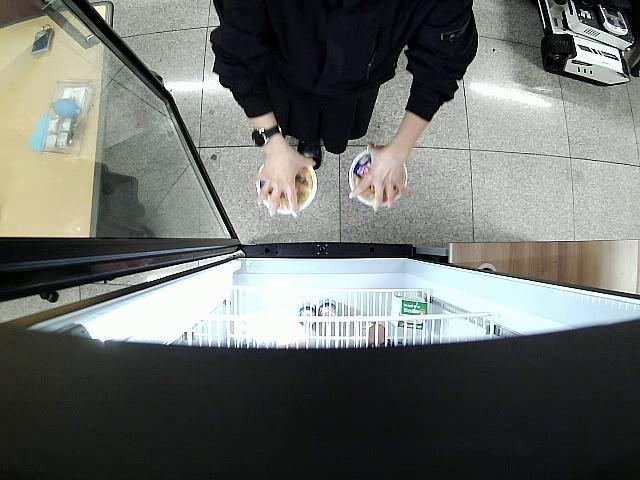09_yukGaeJang: (348, 150, 407, 208), (256, 163, 316, 216)
